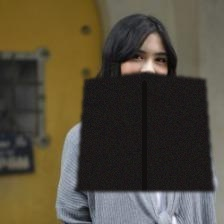Cadar_Niqab: (75, 13, 213, 191)
